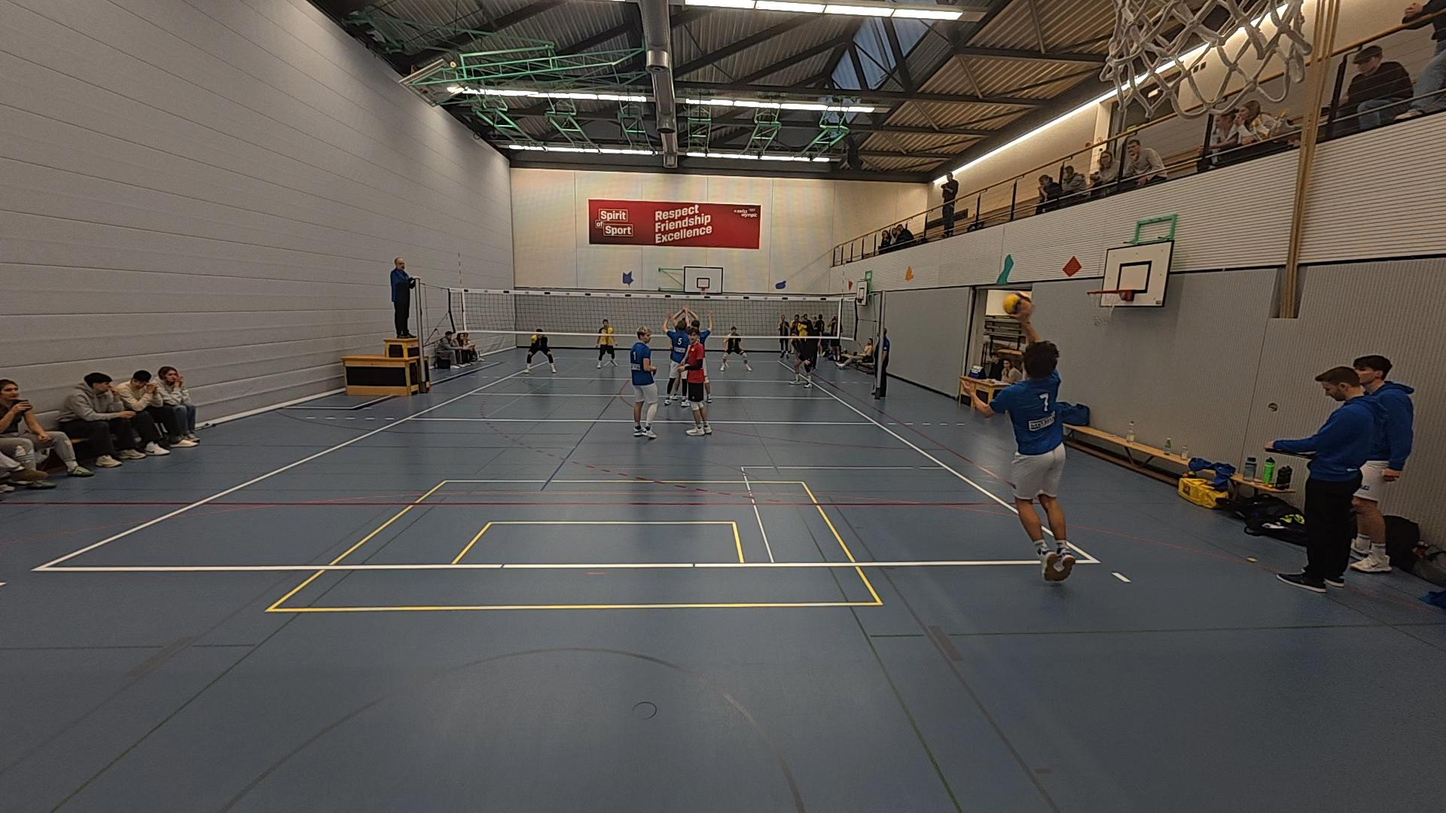Player: (678, 325, 713, 437), (629, 325, 657, 439), (662, 315, 686, 406), (793, 317, 819, 388), (523, 327, 557, 373), (718, 326, 750, 372), (596, 319, 617, 369)
Serve: (967, 311, 1077, 585)
ball: (1002, 295, 1030, 314)
